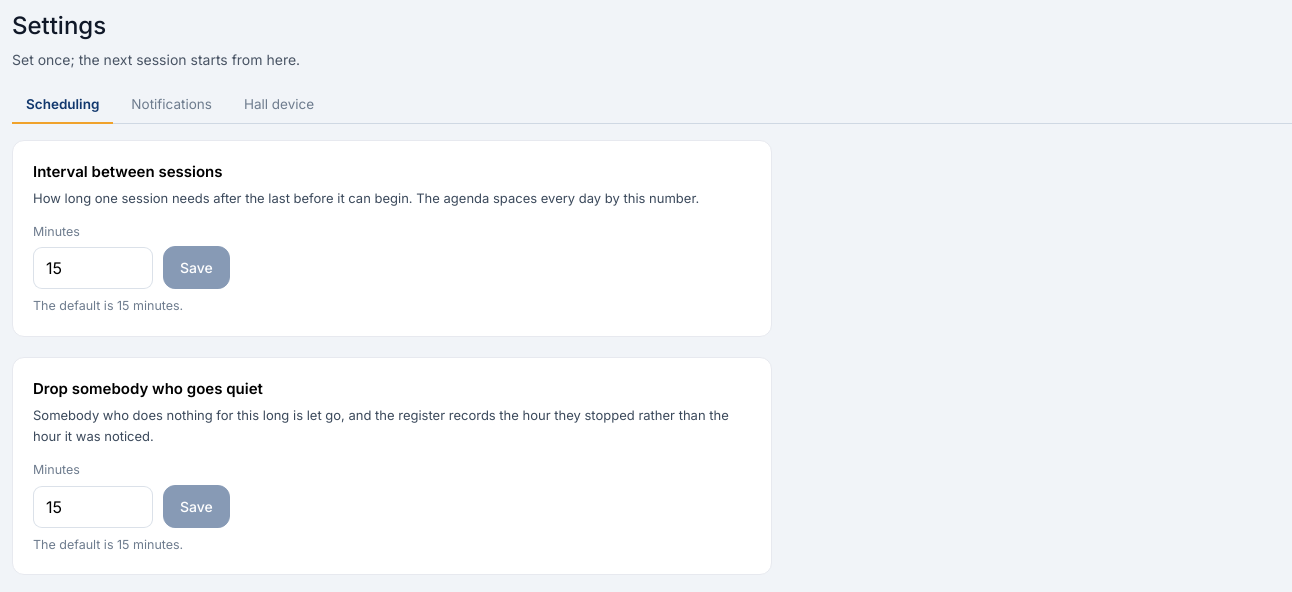
Test: how much warning a programme gives › shows the two lead times it works to
Click the tab "Notifications". click: (172, 105)
box: top-left (117, 86), bottom-right (226, 124)
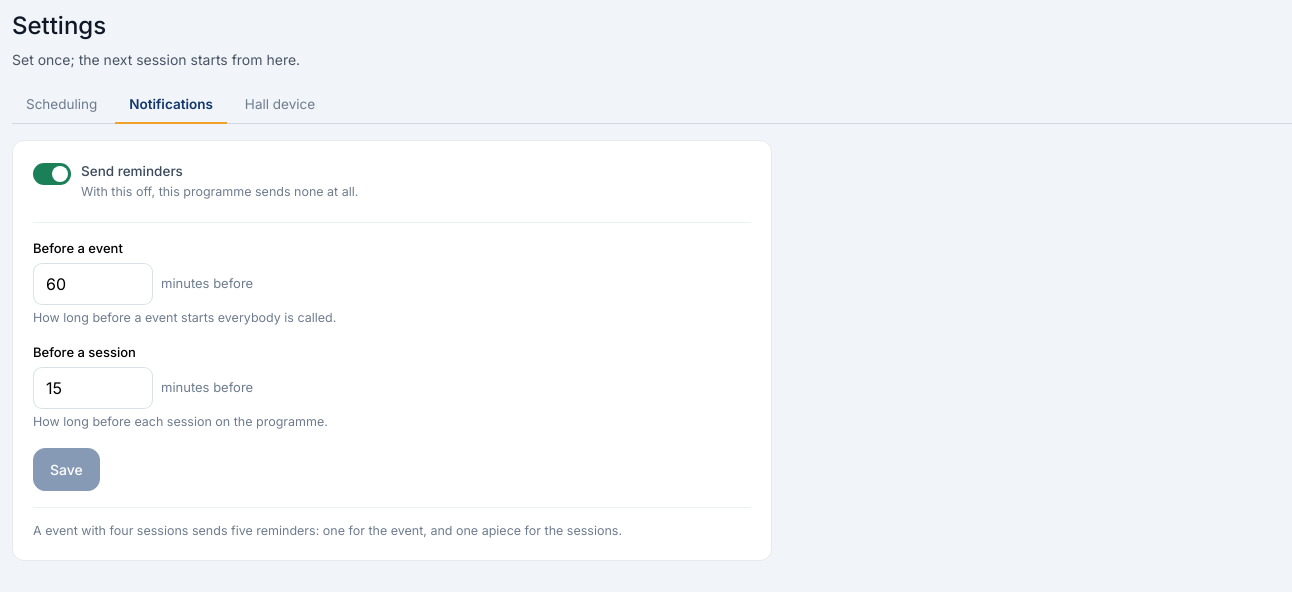
expect the number field labelled "Before a event" holds "60": met, box top-left (33, 262), bottom-right (153, 304)
expect the number field labelled "Before a session" holds "15": met, box top-left (33, 367), bottom-right (153, 409)
